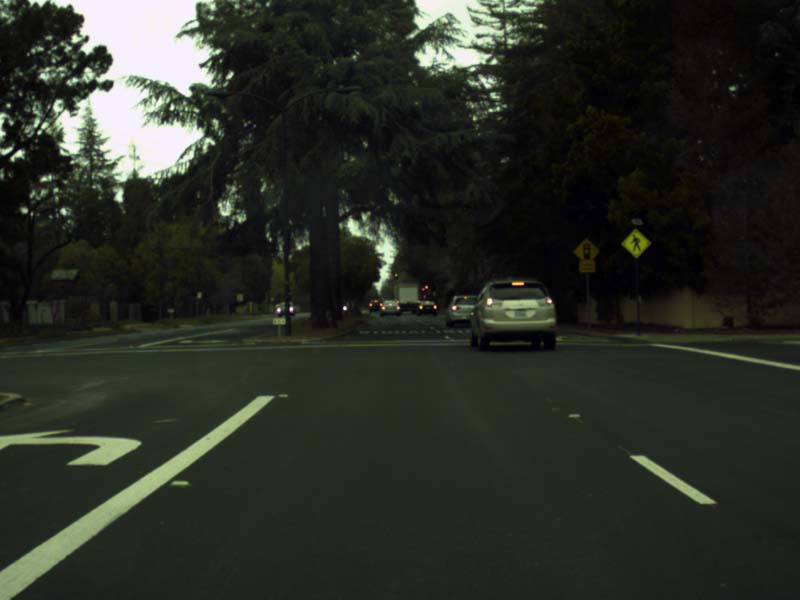Red: (394, 271, 398, 280), (424, 282, 428, 291), (420, 286, 424, 293)
